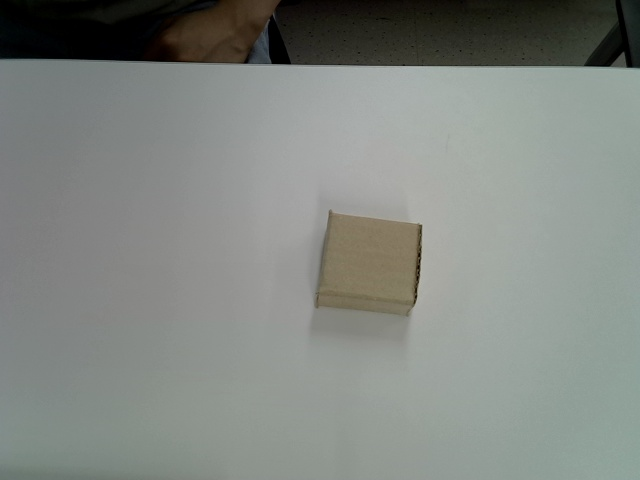normal: (314, 210, 422, 317)
